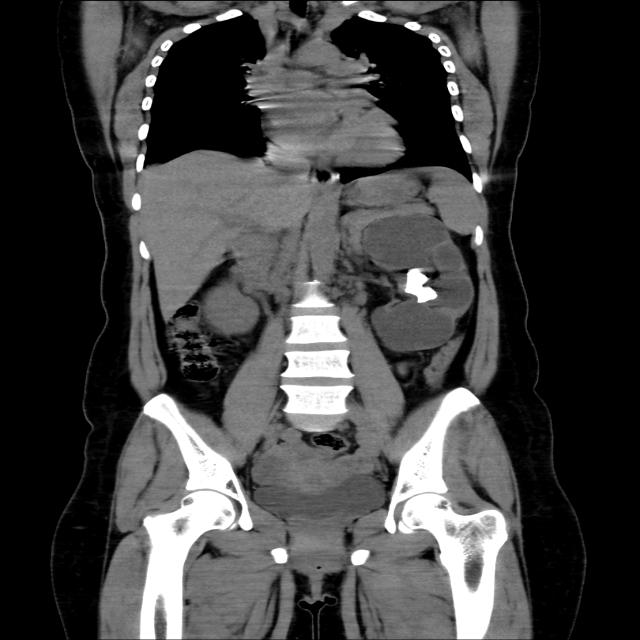kidneystone: (406, 269, 437, 302)
